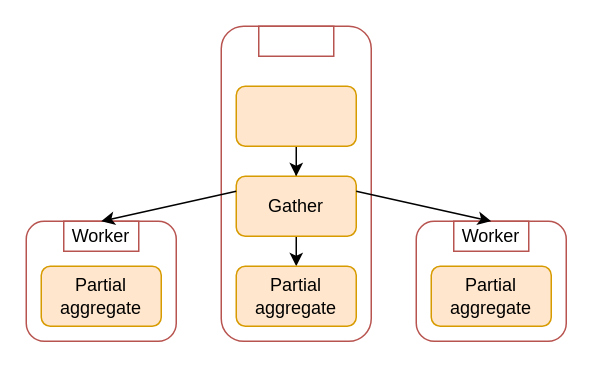
Some shapes in this 593 by 368 pixel diagram are drawn without their labels. Here are the shapes that lost their labels. From the top down, the box of each, then its label:
(257, 25, 334, 56): Leader
(235, 85, 356, 146): Finalized aggregate
